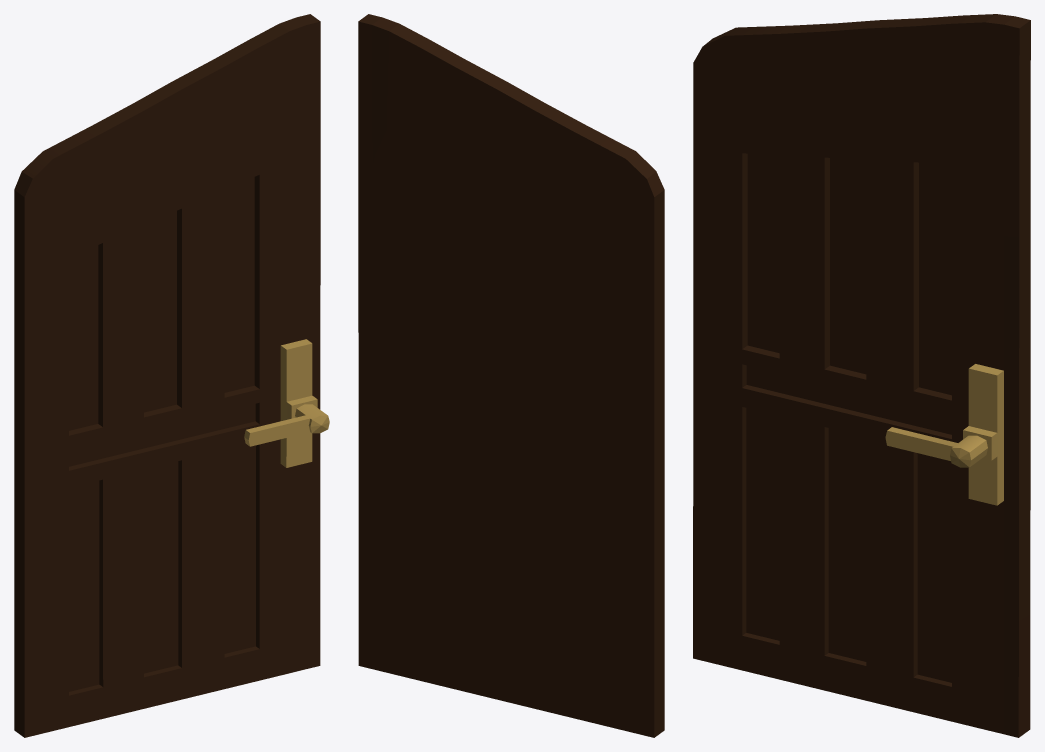
Rendered from MiscGrandDoorLeftUV.fbx.
3 renders of one model, left to right at view 1: azimuth 30°, elevation 25°; view 2: azimuth 150°, elevation 25°; view 3: azimuth 330°, elevation 25°, orthographic. The views are drawn at different scales.
Parts seen in each view (by area): view 1: doorL1; view 2: doorL1; view 3: doorL1.
Part boxes in pixels (box(x1,y1,x2,y2)): doorL1: box(14, 14, 329, 737); doorL1: box(358, 14, 664, 737); doorL1: box(693, 14, 1030, 737).
Bounding box in the file's own units: 139 × 288 × 31.02.
